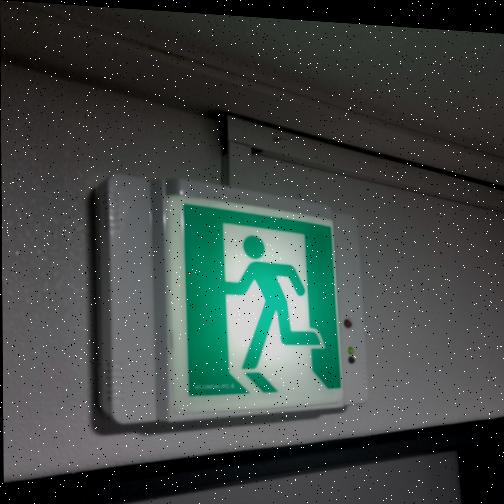emergency_exit: (161, 193, 346, 422)
